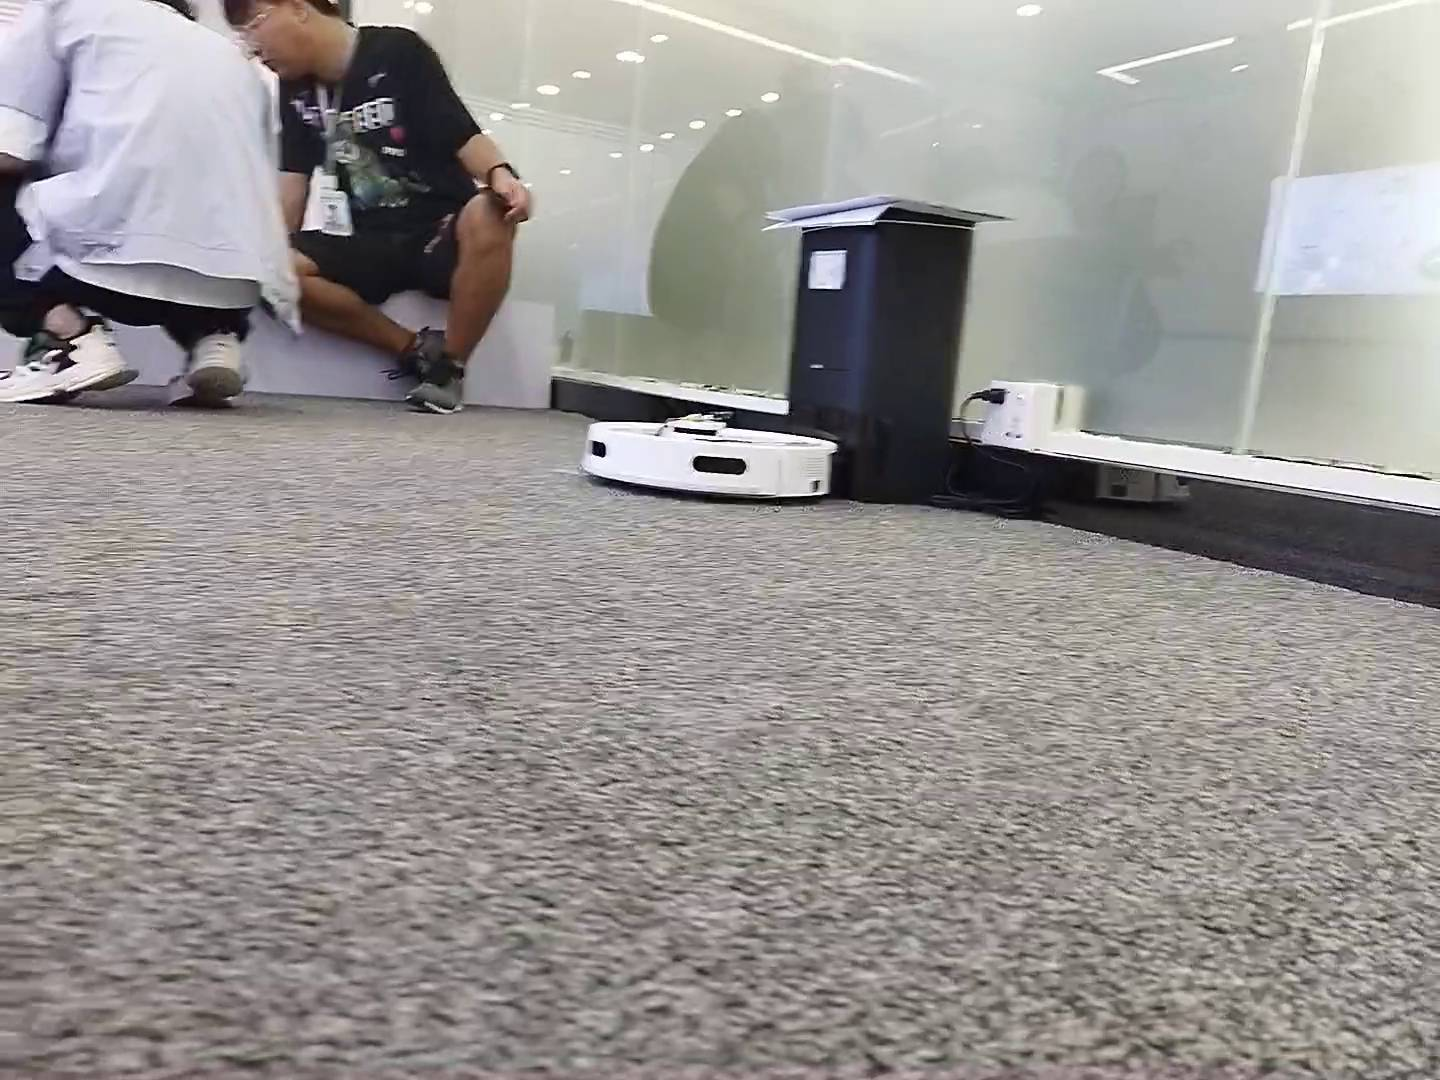dust collecting barrel: (786, 212, 974, 501)
